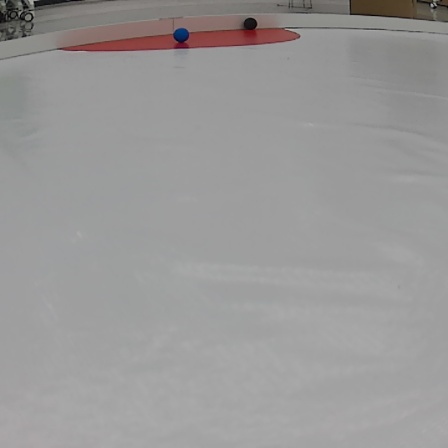black: (244, 15, 260, 28)
blue: (171, 26, 189, 44)
red_base: (57, 25, 302, 50)
